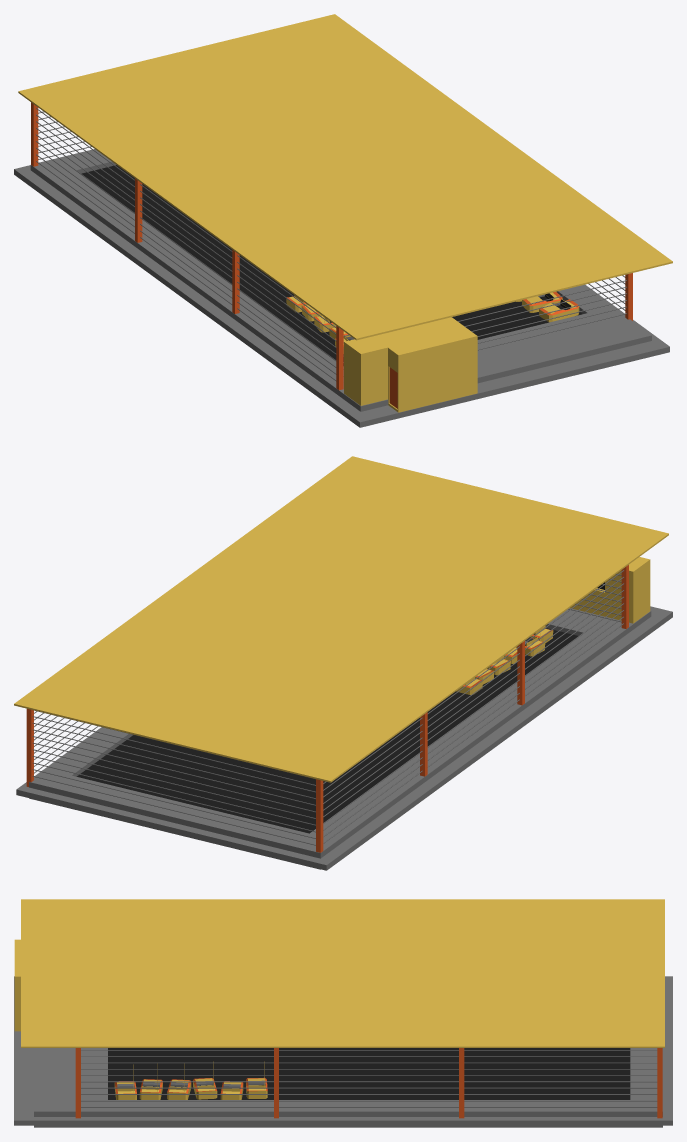
File: bumperKart.glb
The picture shows the model from 3 angles, top to bottom: view 1: azimuth 30°, elevation 25°; view 2: azimuth 150°, elevation 25°; view 3: azimuth 270°, elevation 25°; orthographic projection. The views are drawn at different scales.
Parts seen in each view (by area): view 1: Cube.005, Cube, Cube.001, Cube.002, Cube.004, BumperKart; view 2: Cube.005, Cube, Cube.001, Cube.002, Cube.004, Cylinder, Cylinder.001; view 3: Cube.005, Cube, Cylinder, Cylinder.001, Cylinder.003, Cylinder.004, Cylinder.007, Cube.002, Cube.004, Cube.001, Cylinder.002, Cylinder.005 (+9 smaller).
Part boxes in pixels (x1,y1,x2,y2): Cube.005: (18, 14, 672, 340); Cube: (14, 149, 669, 427); Cube.001: (344, 317, 477, 412); Cube.002: (31, 102, 632, 390); Cube.004: (135, 178, 239, 313); BumperKart: (539, 299, 579, 322); Cube.005: (14, 456, 668, 782); Cube: (16, 606, 672, 870); Cube.001: (570, 557, 650, 623); Cube.002: (26, 565, 628, 852); Cube.004: (420, 641, 524, 776); Cylinder: (34, 623, 623, 843); Cylinder.001: (34, 616, 623, 836); Cube.005: (21, 899, 664, 1047); Cube: (14, 976, 672, 1127); Cylinder: (81, 1106, 657, 1107); Cylinder.001: (81, 1100, 657, 1101); Cylinder.003: (81, 1087, 657, 1088); Cylinder.004: (81, 1081, 657, 1082); Cylinder.007: (81, 1062, 656, 1063); Cube.002: (75, 1048, 662, 1118); Cube.004: (274, 1048, 464, 1118); Cube.001: (14, 939, 20, 1031); Cylinder.002: (81, 1094, 657, 1094); Cylinder.005: (81, 1075, 657, 1075).
Bounding box in the file's own units: 20.01 × 5.55 × 37.86.
